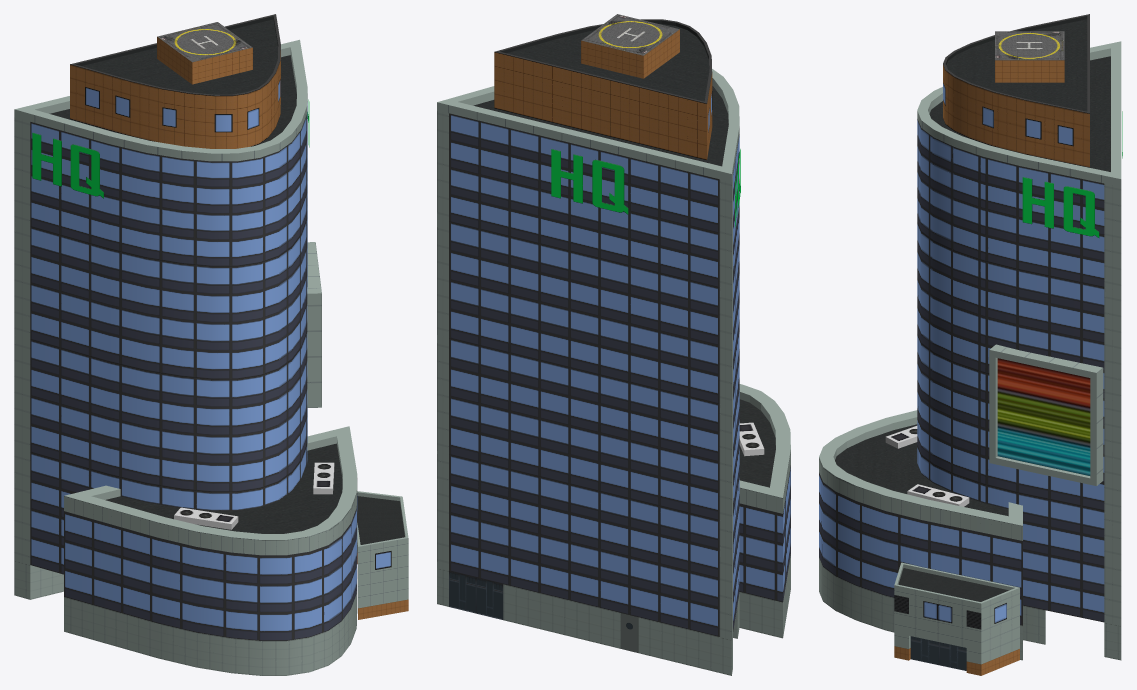
File: BVR Luxury Tower_02_Parts.FBX
3 views of the same model, side by side, from view 1: azimuth 30°, elevation 25°; view 2: azimuth 150°, elevation 25°; view 3: azimuth 270°, elevation 25° (orthographic). The views are drawn at different scales.
Parts seen in each view (by area): view 1: BVR Luxury Tower_02_Part3, BVR Luxury Tower_02_Part2, BVR Luxury Tower_02_Part4, BVR Luxury Tower_02_Part5, BVR Luxury Tower_02_Part6, BVR Luxury Tower_02_Part1; view 2: BVR Luxury Tower_02_Part3, BVR Luxury Tower_02_Part2, BVR Luxury Tower_02_Part4, BVR Luxury Tower_02_Part5, BVR Luxury Tower_02_Part6; view 3: BVR Luxury Tower_02_Part3, BVR Luxury Tower_02_Part2, BVR Luxury Tower_02_Part6, BVR Luxury Tower_02_Part5, BVR Luxury Tower_02_Part4, BVR Luxury Tower_02_Part1.
Part boxes in pixels (x1,y1,x2,y2): BVR Luxury Tower_02_Part3: (14,242,357,555); BVR Luxury Tower_02_Part2: (14,475,357,675); BVR Luxury Tower_02_Part4: (14,206,307,379); BVR Luxury Tower_02_Part5: (14,99,309,266); BVR Luxury Tower_02_Part6: (14,14,307,161); BVR Luxury Tower_02_Part1: (357,491,408,619); BVR Luxury Tower_02_Part3: (437,335,790,551); BVR Luxury Tower_02_Part2: (437,465,790,675); BVR Luxury Tower_02_Part4: (437,218,739,406); BVR Luxury Tower_02_Part5: (437,110,740,290); BVR Luxury Tower_02_Part6: (437,14,739,182); BVR Luxury Tower_02_Part3: (819,334,1121,540); BVR Luxury Tower_02_Part2: (819,472,1121,660); BVR Luxury Tower_02_Part6: (917,14,1121,186); BVR Luxury Tower_02_Part5: (917,111,1122,290); BVR Luxury Tower_02_Part4: (917,223,1121,402); BVR Luxury Tower_02_Part1: (894,562,1019,675).
Size of the model in its own units: 12.41 by 20.61 by 10.39.
